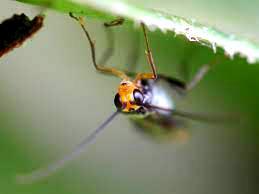Helopeltis-insect: (108, 58, 190, 144)
